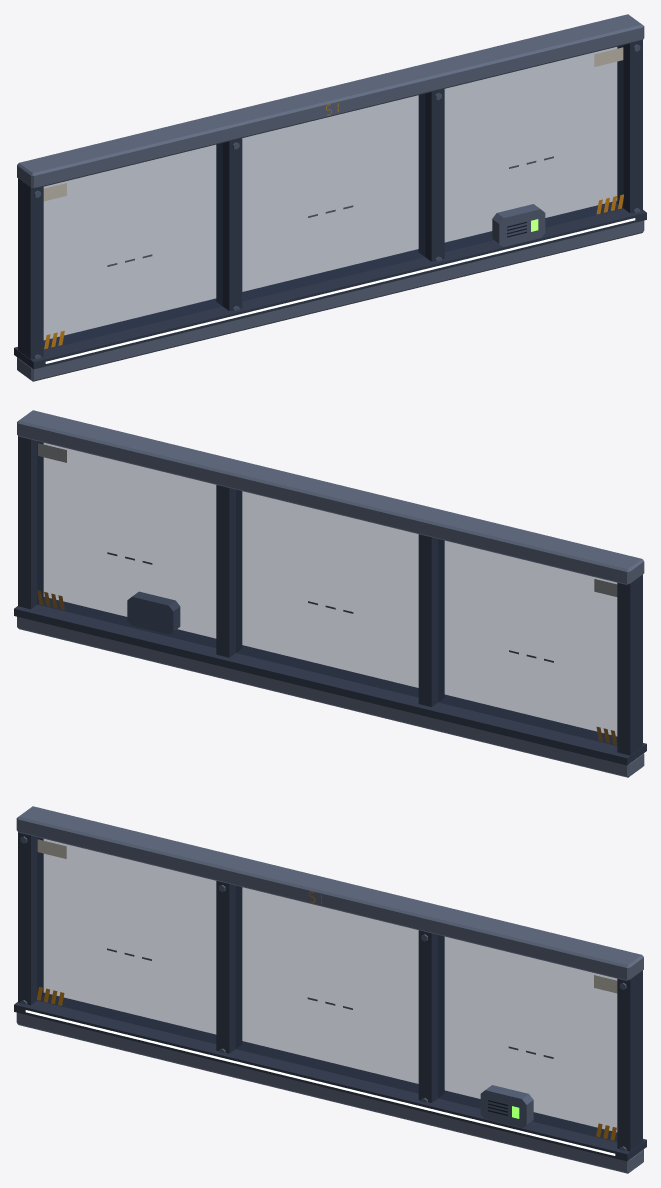
File: lab_observation_window.glb
3 views of the same model, one above another, from view 1: azimuth 30°, elevation 25°; view 2: azimuth 150°, elevation 25°; view 3: azimuth 330°, elevation 25° (orthographic).
Visible parts, largest first — view 1: ballistic_glass, mullion, frame, clamp_bolt, sill_light, print; view 2: ballistic_glass, mullion, frame, clamp_bolt, print; view 3: ballistic_glass, mullion, frame, clamp_bolt, sill_light, print.
Part boxes in pixels (<box>): ballistic_glass: <box>44,45,623,349</box>; mullion: <box>14,40,646,369</box>; frame: <box>17,14,644,381</box>; clamp_bolt: <box>34,44,640,359</box>; sill_light: <box>45,218,635,363</box>; print: <box>43,47,623,201</box>; ballistic_glass: <box>37,441,616,745</box>; mullion: <box>14,436,646,765</box>; frame: <box>17,410,644,777</box>; clamp_bolt: <box>127,591,180,634</box>; print: <box>38,443,617,596</box>; ballistic_glass: <box>37,837,616,1141</box>; mullion: <box>14,832,646,1161</box>; frame: <box>16,806,643,1173</box>; clamp_bolt: <box>20,836,626,1151</box>; sill_light: <box>25,1010,615,1155</box>; print: <box>37,839,617,993</box>.
Bounding box in the file's own units: 8 × 2.6 × 0.45.
